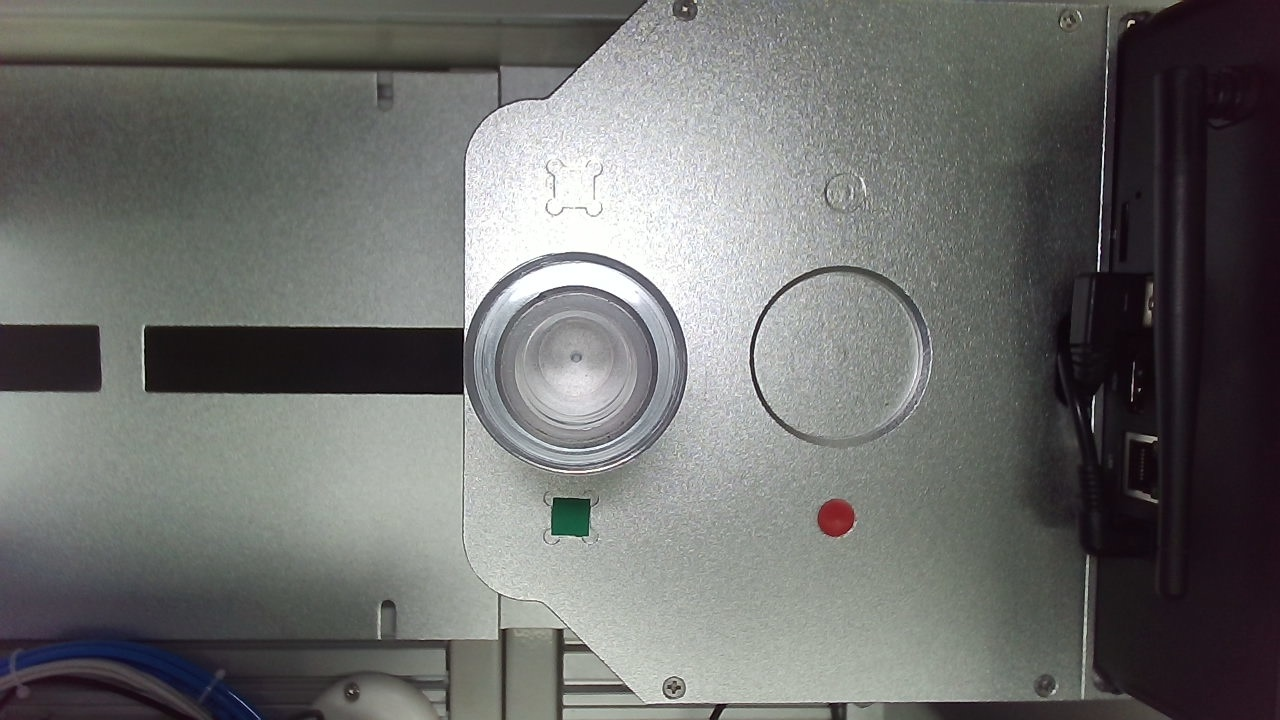XLabel: (780, 227, 813, 259)
YLabel: (560, 226, 595, 261)
none: (717, 296, 877, 458)
transparenexcept: (465, 259, 671, 465)
